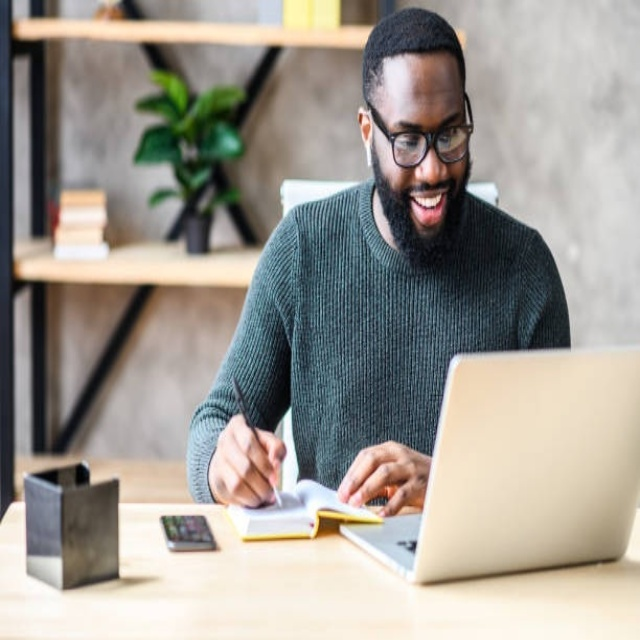Gafas: (370, 94, 474, 168)
Sin_guantes: (209, 411, 287, 510), (336, 439, 430, 517)
Sin_mascara: (402, 181, 451, 236)
